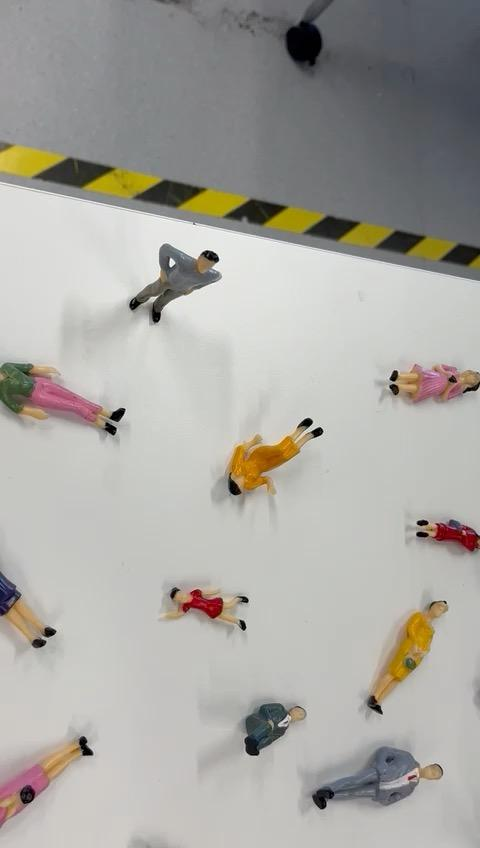human: (0, 345, 146, 447), (352, 587, 453, 719), (208, 402, 319, 521), (300, 732, 451, 818), (0, 724, 101, 838), (131, 227, 227, 335), (146, 564, 267, 644), (371, 347, 480, 406), (231, 687, 307, 764), (0, 564, 58, 664), (406, 507, 480, 569)
